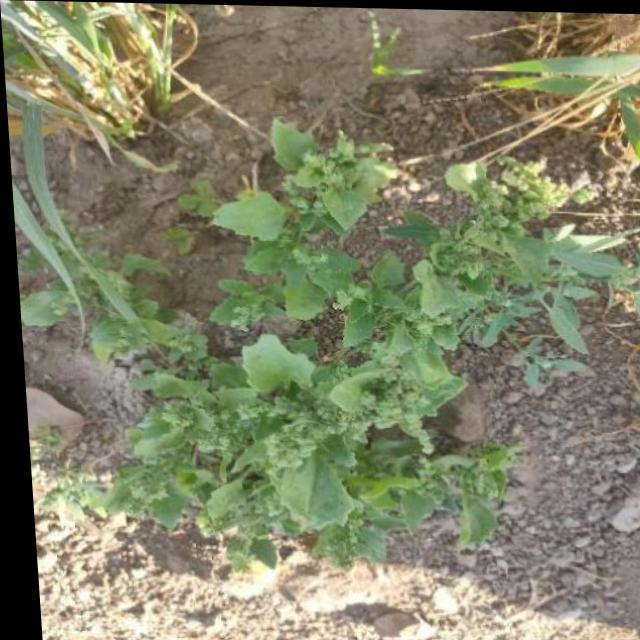weed: (105, 169, 607, 559)
